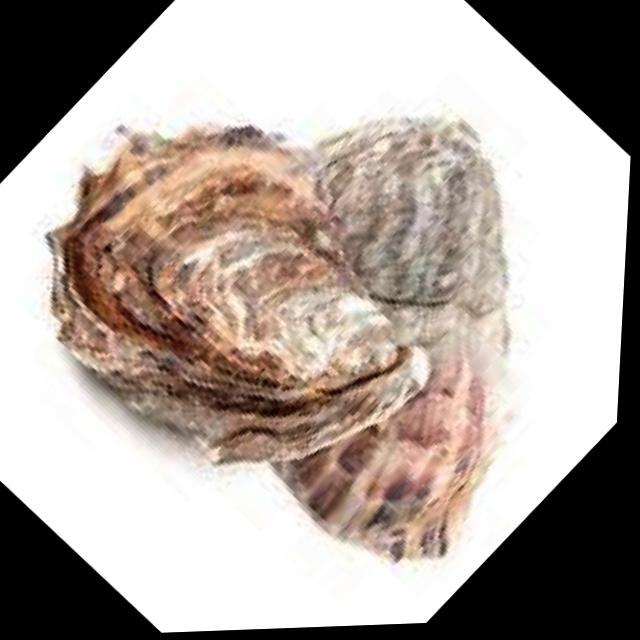Oyster-Closed: (45, 131, 430, 466)
Oyster-Indeterminate: (108, 47, 636, 617)
